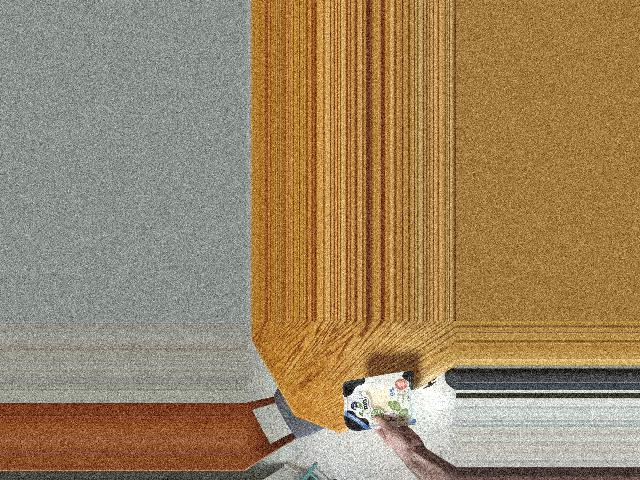cheese: (333, 371, 423, 434)
